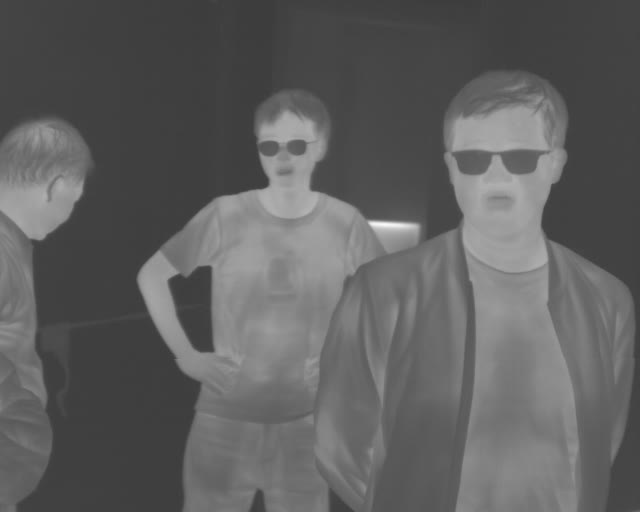face: (443, 68, 568, 241), (252, 88, 332, 189)
